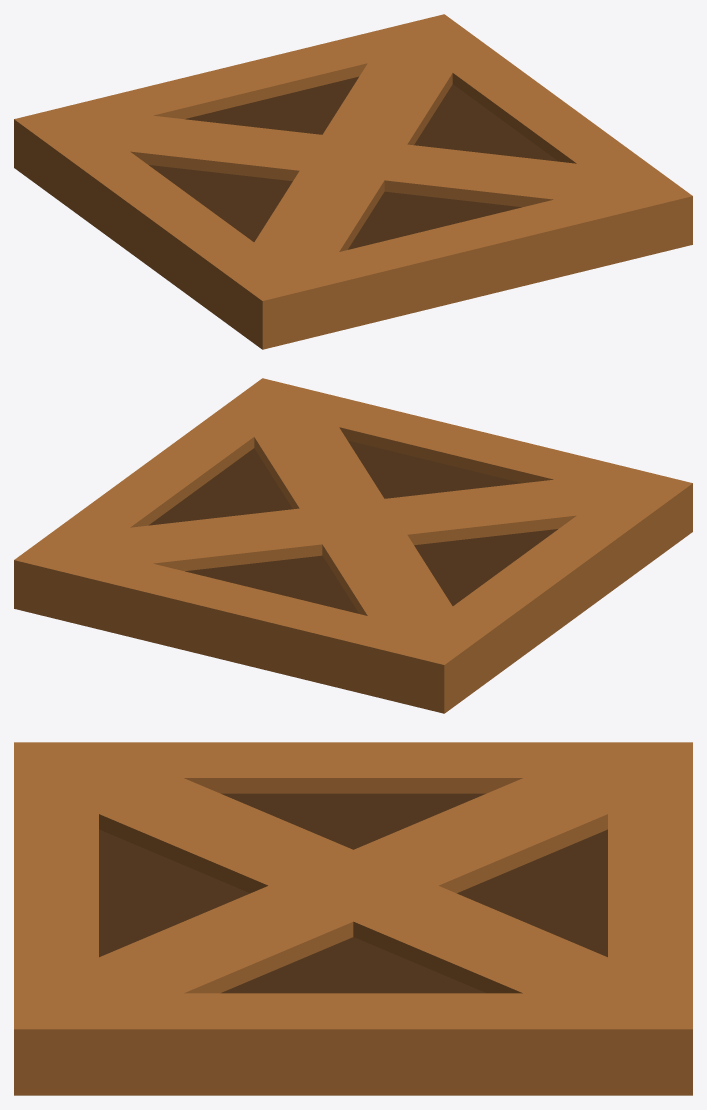
Rendered from button.fbx.
The picture shows the model from 3 angles, top to bottom: view 1: azimuth 30°, elevation 25°; view 2: azimuth 150°, elevation 25°; view 3: azimuth 270°, elevation 25°; orthographic projection. The views are drawn at different scales.
Visible parts, largest first — view 1: Cube; view 2: Cube; view 3: Cube.
Boxes of the visible parts, x1,y1,x2,y2 form: Cube: (14,14,692,349); Cube: (14,378,692,713); Cube: (14,742,692,1095).
Bounding box in the file's own units: 200 × 21.63 × 200.
